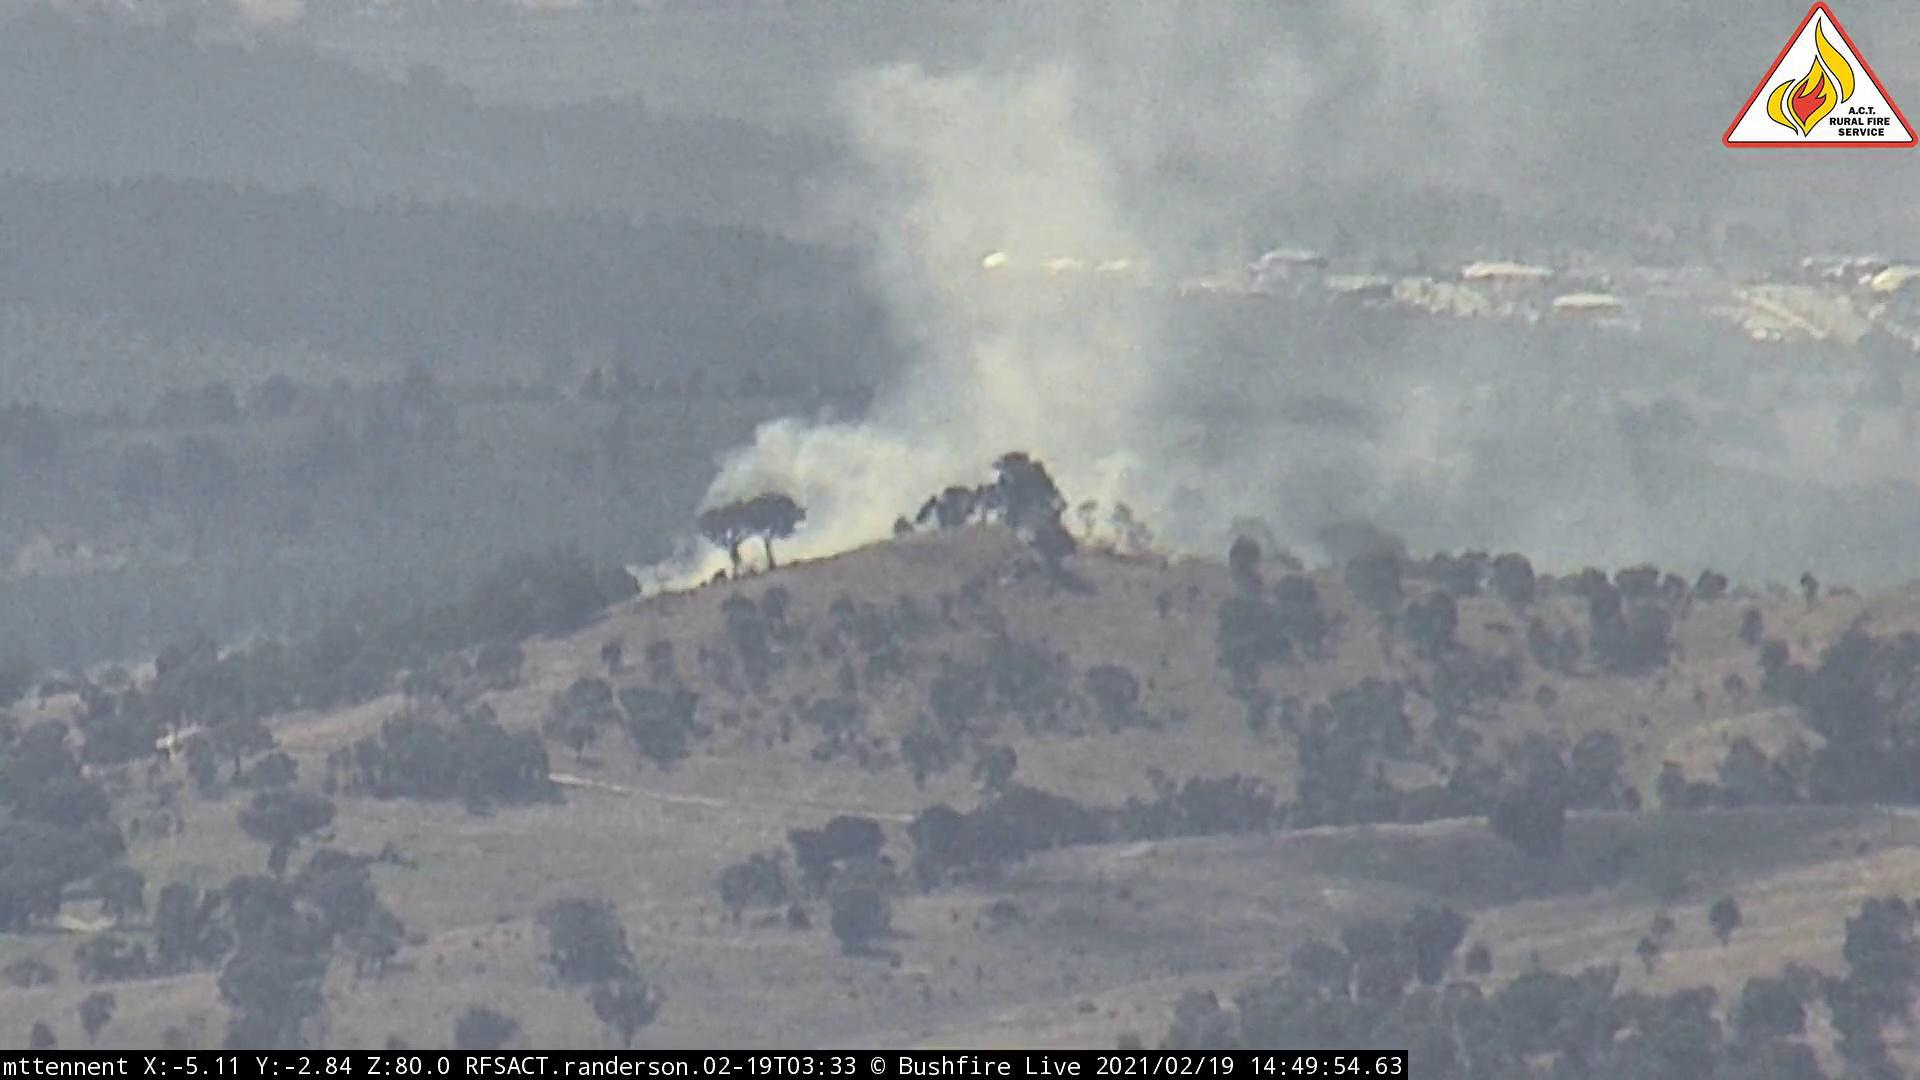Smoke: (625, 26, 1631, 607)
